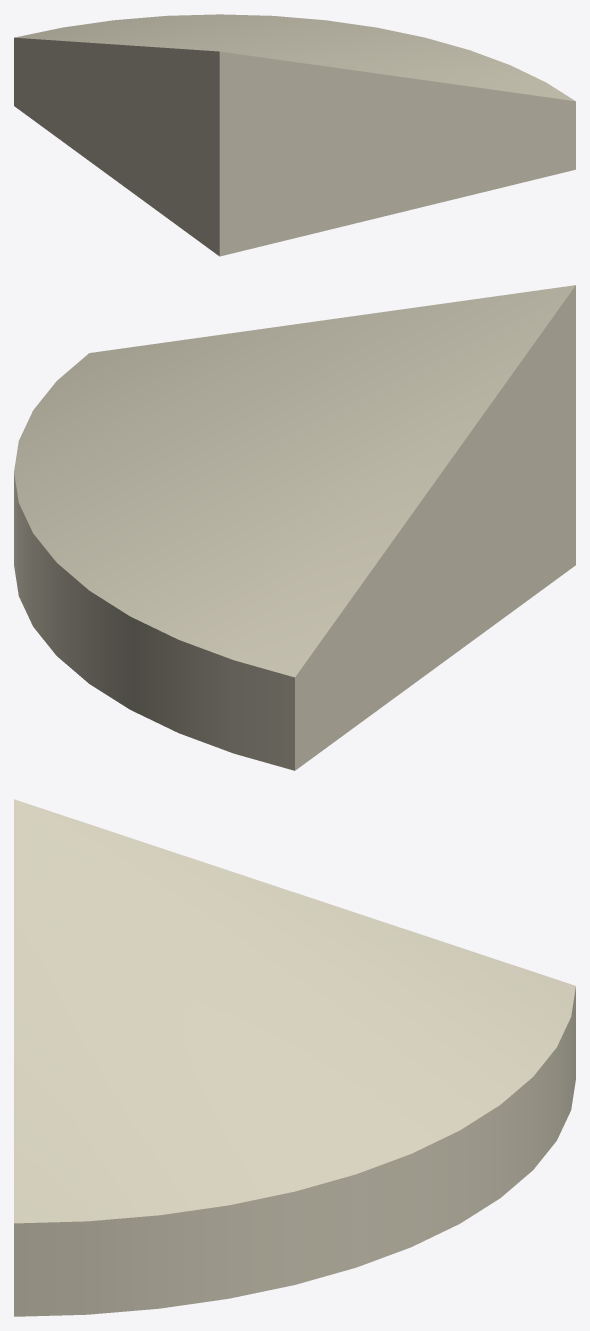
File: roadTile_010.fbx
The picture shows the model from 3 angles, top to bottom: view 1: azimuth 30°, elevation 25°; view 2: azimuth 150°, elevation 25°; view 3: azimuth 270°, elevation 25°; orthographic projection. The views are drawn at different scales.
Visible parts, largest first — view 1: roadTile_010; view 2: roadTile_010; view 3: roadTile_010.
Boxes of the visible parts, x1,y1,x2,y2 form: roadTile_010: [14, 14, 575, 256]; roadTile_010: [14, 285, 575, 770]; roadTile_010: [14, 799, 575, 1316].
Bounding box in the file's own units: 118 × 64.96 × 118.
